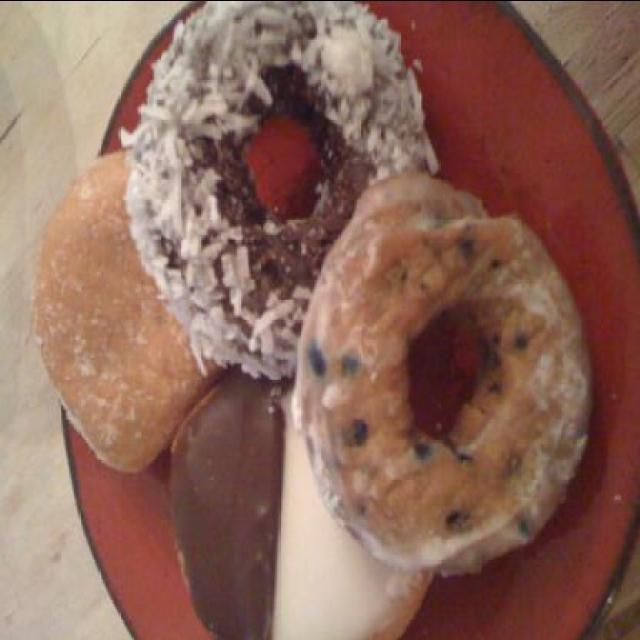Donuts: (33, 1, 610, 634)
